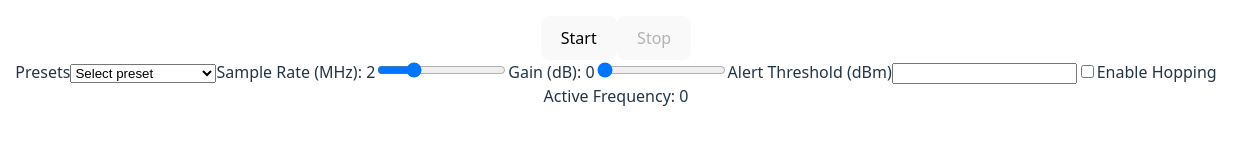
Scenario: scan controls › shows error on failure
Click the button "Start" at (579, 38), box [541, 16, 617, 60]
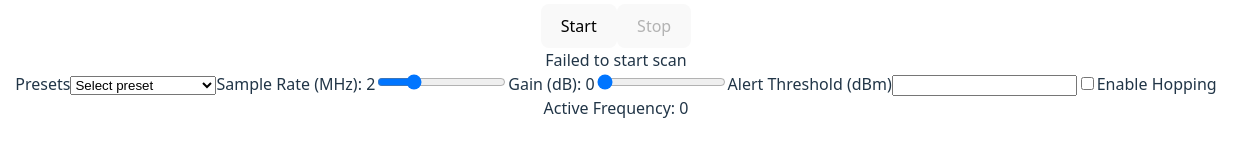
Result: the message reads "Failed to start scan" at [545, 49, 687, 71]
